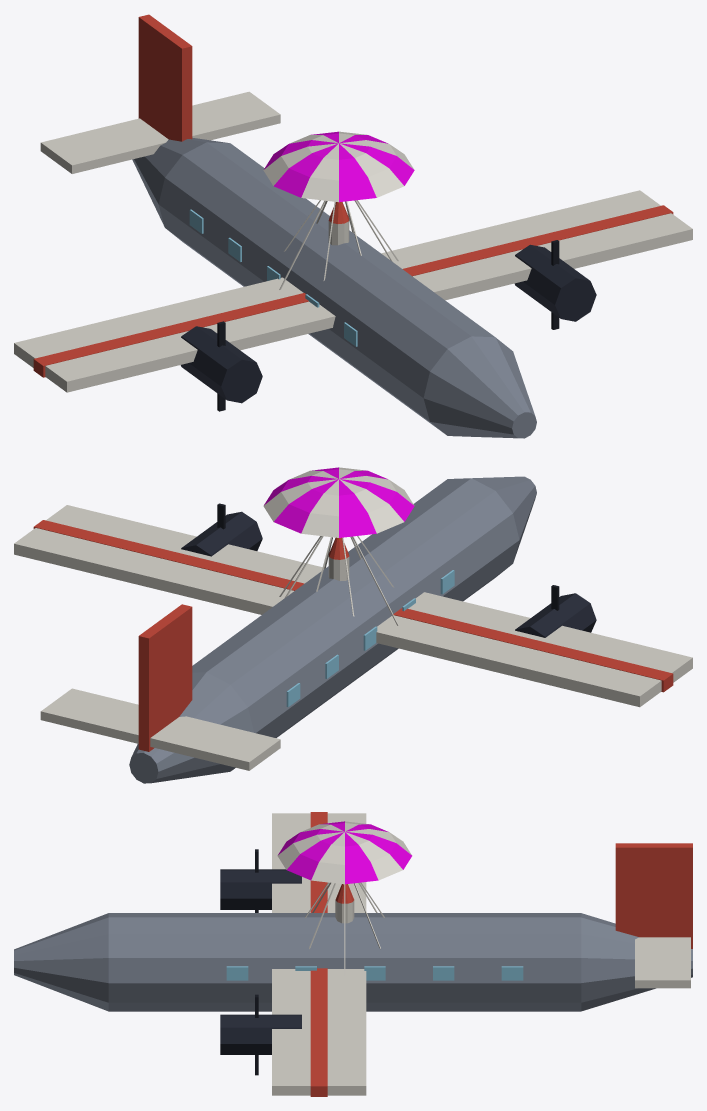
File: kit.glb
The picture shows the model from 3 angles, top to bottom: view 1: azimuth 30°, elevation 25°; view 2: azimuth 150°, elevation 25°; view 3: azimuth 270°, elevation 25°; orthographic projection. The views are drawn at different scales.
Visible parts, largest first — view 1: BR_Plane, BR_Chute, BR_Missile; view 2: BR_Plane, BR_Chute, BR_Missile; view 3: BR_Plane, BR_Chute, BR_Missile.
Part boxes in pixels (bbox=[...]): BR_Plane: bbox=[14, 14, 692, 438]; BR_Chute: bbox=[263, 131, 414, 289]; BR_Missile: bbox=[328, 202, 349, 245]; BR_Plane: bbox=[14, 476, 692, 783]; BR_Chute: bbox=[263, 467, 414, 625]; BR_Missile: bbox=[328, 537, 349, 580]; BR_Plane: bbox=[14, 812, 692, 1096]; BR_Chute: bbox=[277, 821, 412, 975]; BR_Missile: bbox=[335, 884, 354, 923].
Size of the model in its own units: 15.1 by 4.5 by 15.8.
